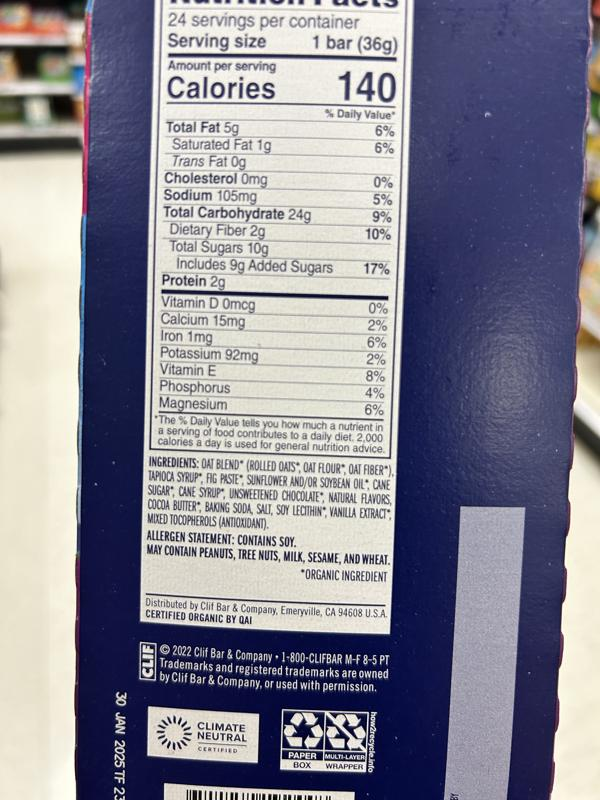ingredients: (144, 453, 395, 532)
